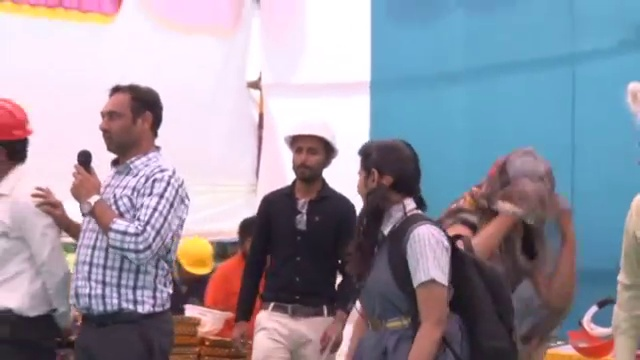helmet: (283, 107, 343, 157), (171, 231, 220, 276), (0, 89, 35, 147), (185, 301, 235, 339)
helmet_off: (352, 141, 425, 218), (487, 148, 566, 218), (90, 90, 167, 161), (233, 223, 269, 266)
helmet_on: (282, 110, 341, 185), (0, 93, 35, 180), (172, 230, 220, 291)
person: (32, 83, 192, 360), (237, 103, 356, 360), (443, 136, 579, 356), (341, 139, 458, 360), (0, 97, 73, 360), (204, 221, 271, 337), (169, 236, 220, 316)
